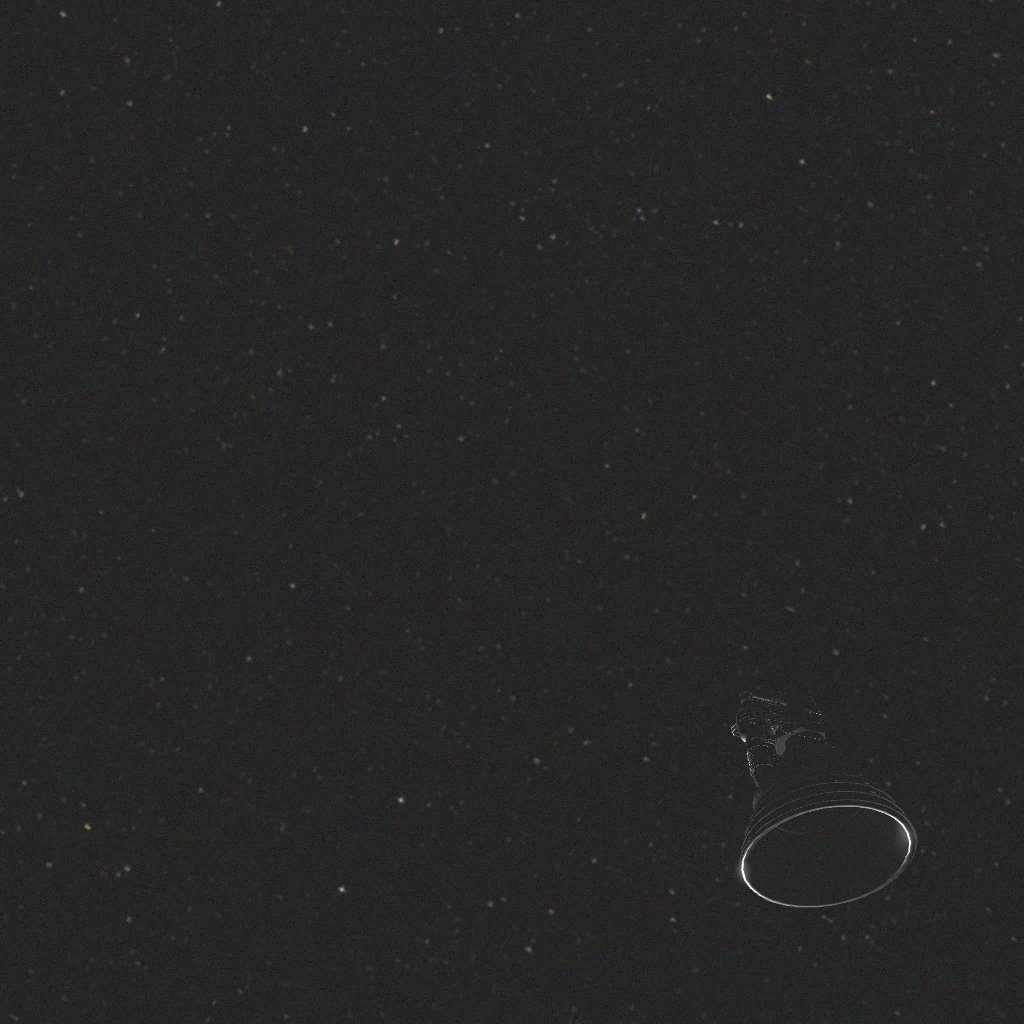debris: (731, 682, 917, 907)
